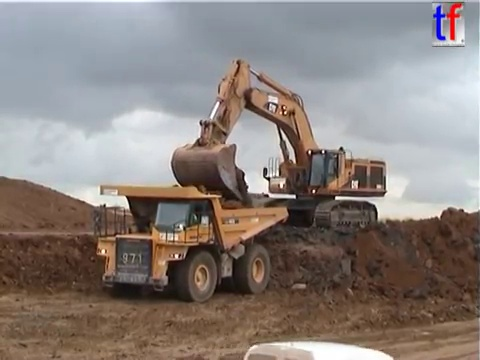excavator: (167, 56, 391, 238)
truck: (91, 182, 290, 305), (168, 184, 272, 227)
